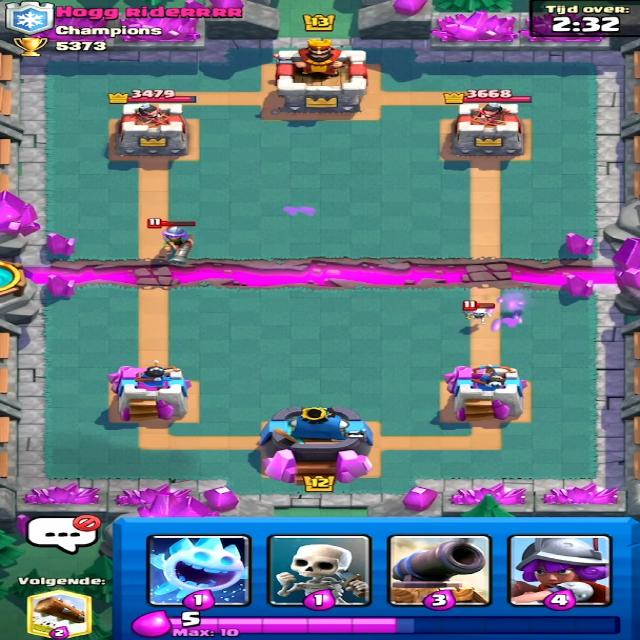Cannon_Card: (387, 532, 490, 606)
Enemy_Musketeer_Troop: (150, 222, 207, 264)
Enemy_Skeleton_Troop: (465, 306, 489, 328)
Ice_Spirit_Card: (150, 534, 252, 604)
Musketeer_Card: (509, 532, 614, 607)
Skeleton_Card: (265, 532, 369, 606)
